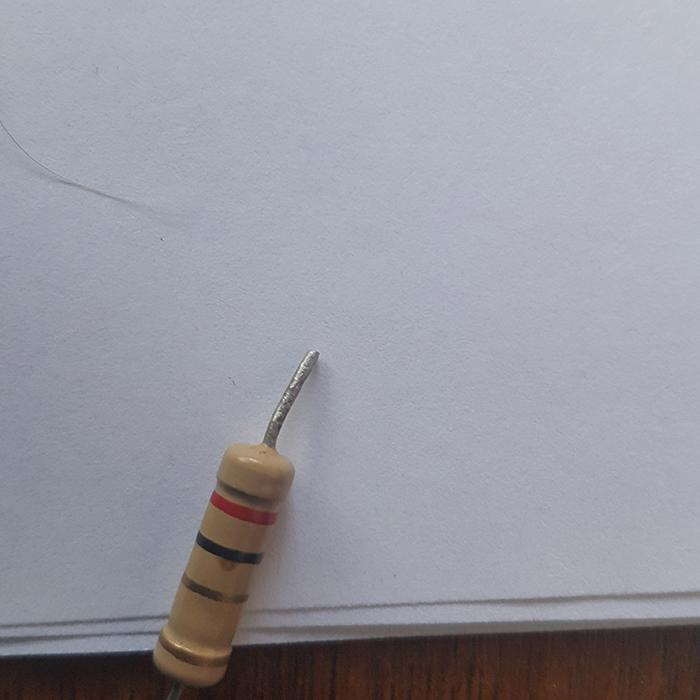resistor: (152, 442, 293, 688)
